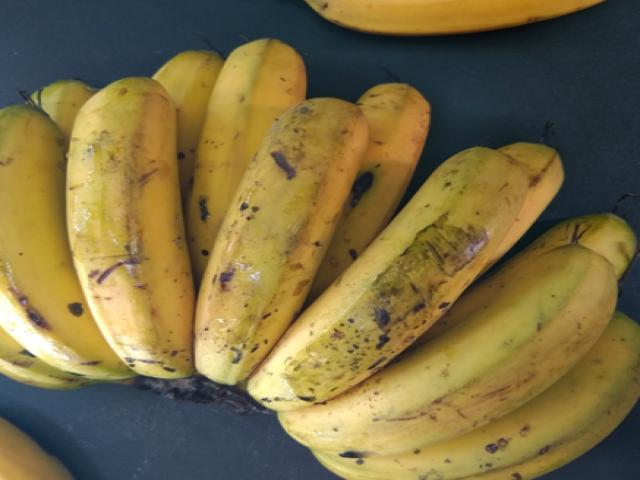ripe: (269, 233, 625, 459), (269, 140, 545, 382), (65, 70, 213, 392), (197, 93, 362, 369), (0, 104, 86, 395)
